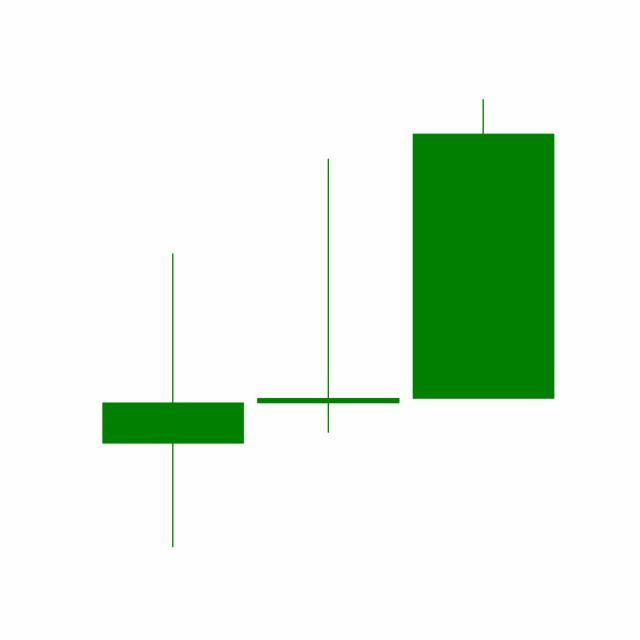Spinning Top: (250, 156, 407, 437)
